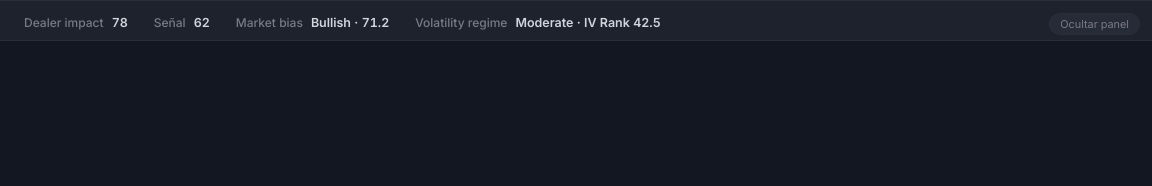
DealersPanel (design 12.7) › opens the detail cards with a click on any tab and folds them again with another
Click the button "Market bias Bullish · 71.2". click: (313, 24)
box: [224,7,401,40]
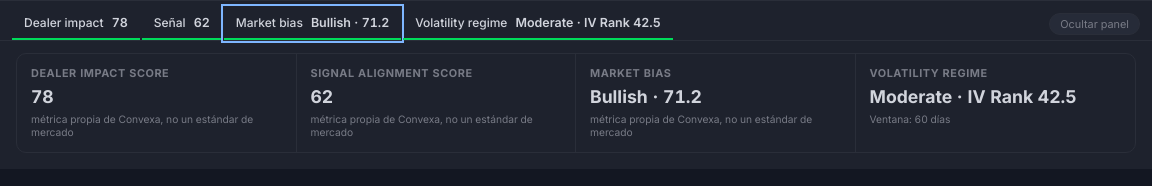
Now the text "Dealer Impact Score" is shown, box [31,66,169,80]
Now the text "Volatility Regime" is shown, box [870,66,988,80]
Click the button "Dealer impact 78". click: (76, 24)
box: [12,7,140,40]
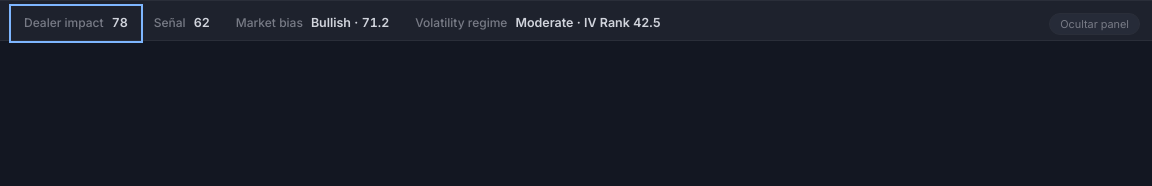
Now the text "Dealer Impact Score" is gone
